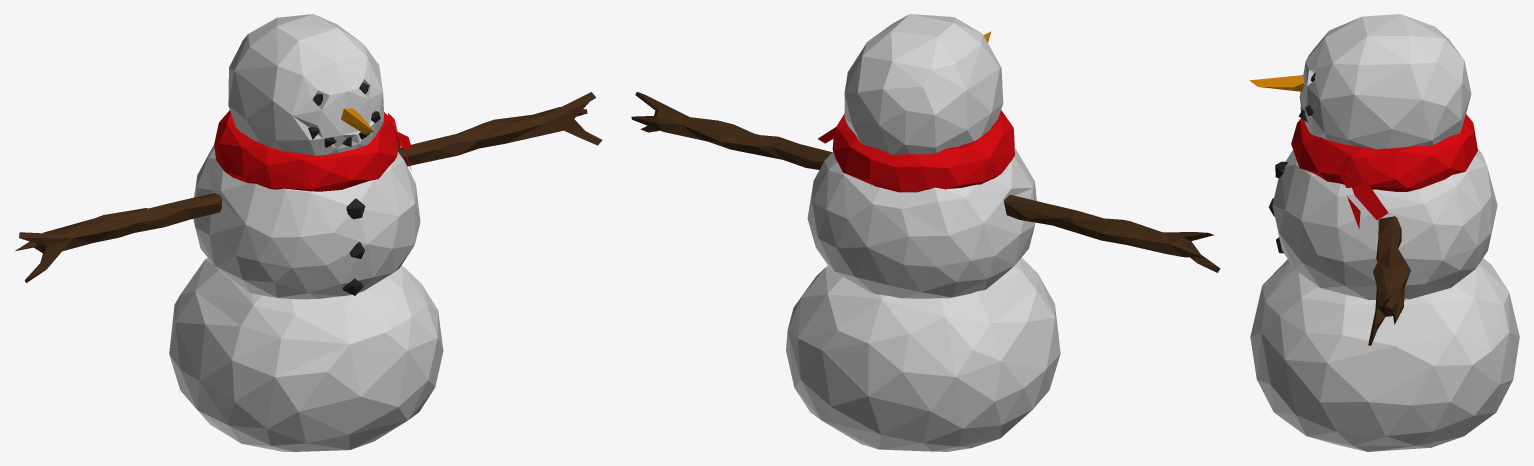
The model's file is Snowman.fbx.
The picture shows the model from 3 angles, left to right: view 1: azimuth 30°, elevation 25°; view 2: azimuth 150°, elevation 25°; view 3: azimuth 270°, elevation 25°; orthographic projection.
Visible parts, largest first — view 1: SnowMan Body; view 2: SnowMan Body; view 3: SnowMan Body.
Part boxes in pixels (bbox=[...]): SnowMan Body: bbox=[15, 14, 602, 451]; SnowMan Body: bbox=[631, 14, 1220, 451]; SnowMan Body: bbox=[1249, 14, 1519, 451].
Bounding box in the file's own units: 546 × 364 × 221.
